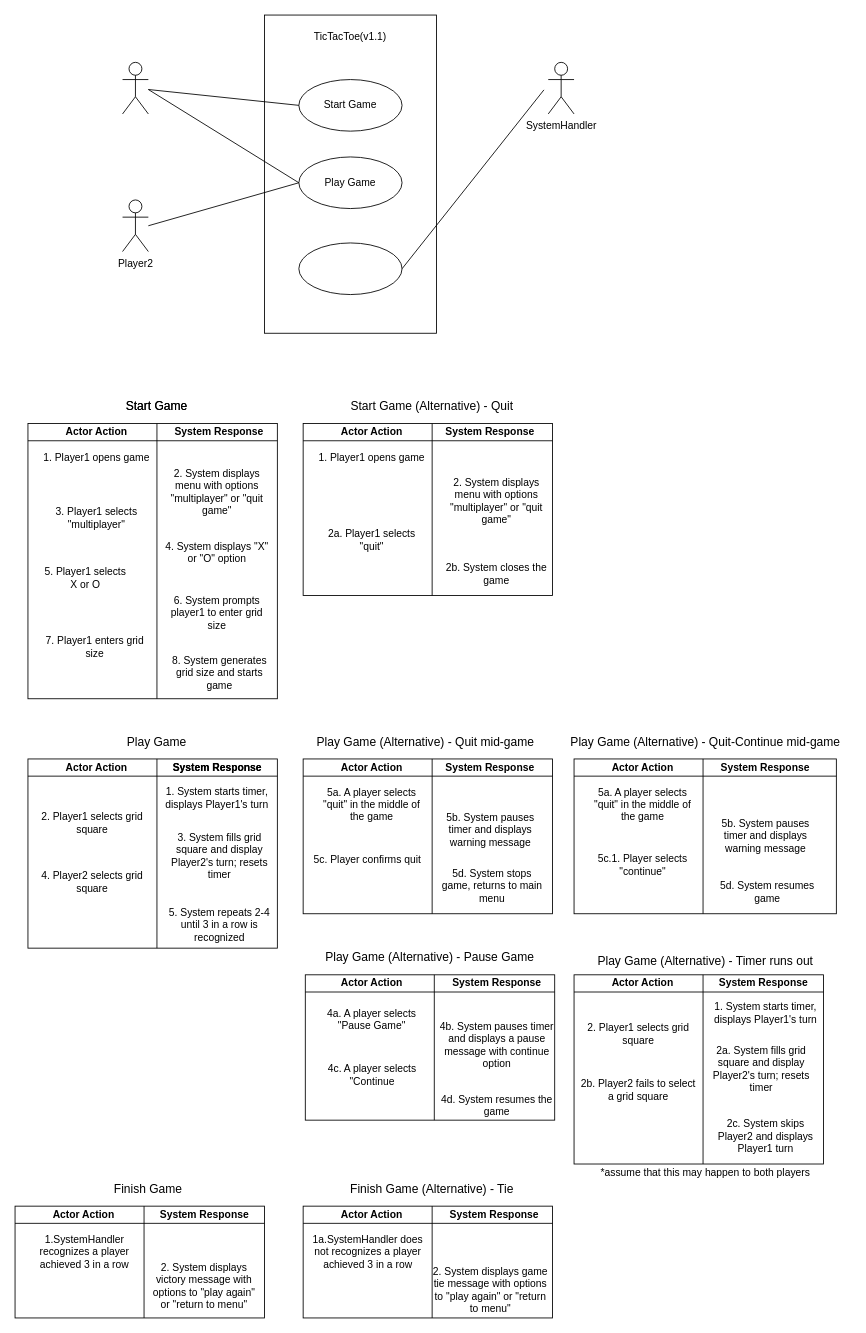
This 866x1333 diagram has some shape labels left out. The shapes that lost their labels are listed below. From the top down, each one's centre as x and y in pixels, then its label:
(x=135, y=87): Player1
(x=350, y=268): End Game
